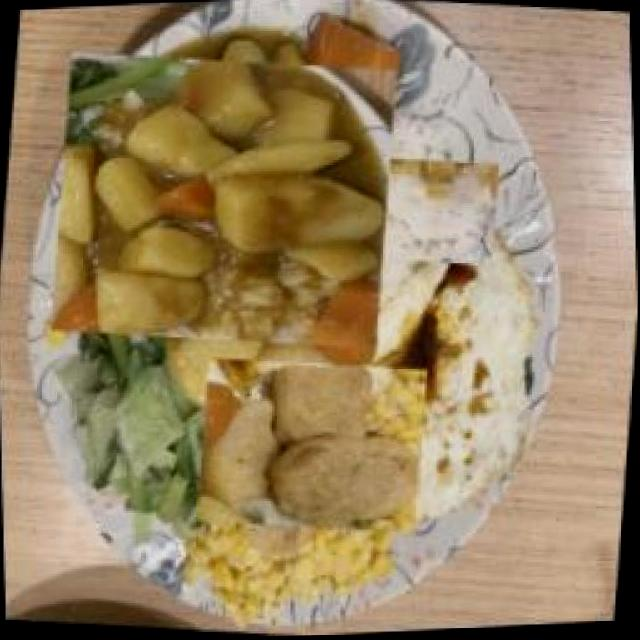chicken_nuggets: (204, 337, 423, 558)
curry: (53, 28, 400, 377)
fried_eggs: (355, 214, 550, 539)
rice: (308, 124, 482, 299)
